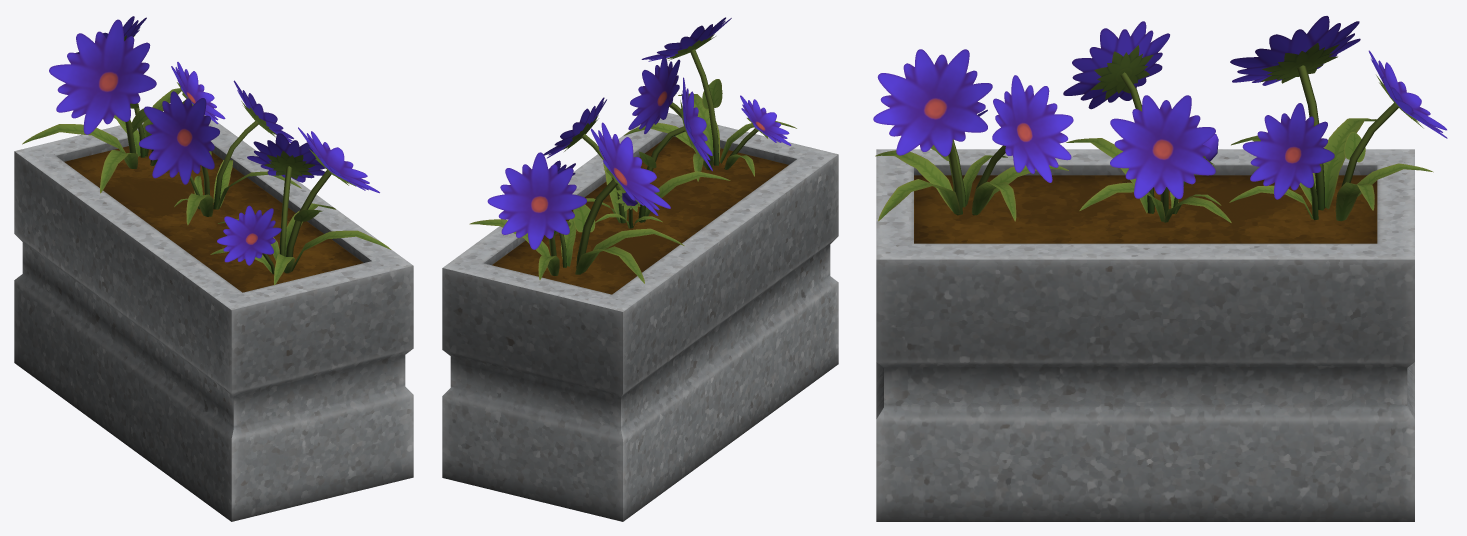
File: pot_lod0_var2_First_Material_0.fbx
3 renders of one model, left to right at view 1: azimuth 30°, elevation 25°; view 2: azimuth 150°, elevation 25°; view 3: azimuth 270°, elevation 25°, orthographic. The views are drawn at different scales.
Parts seen in each view (by area): view 1: pot_lod0_var2_First_Material_0; view 2: pot_lod0_var2_First_Material_0; view 3: pot_lod0_var2_First_Material_0.
Part boxes in pixels (left/top/right/bottom): pot_lod0_var2_First_Material_0: left=14, top=16, right=413, bottom=521; pot_lod0_var2_First_Material_0: left=442, top=17, right=838, bottom=521; pot_lod0_var2_First_Material_0: left=873, top=16, right=1447, bottom=521.
Size of the model in its own units: 64.69 by 115 by 139.
